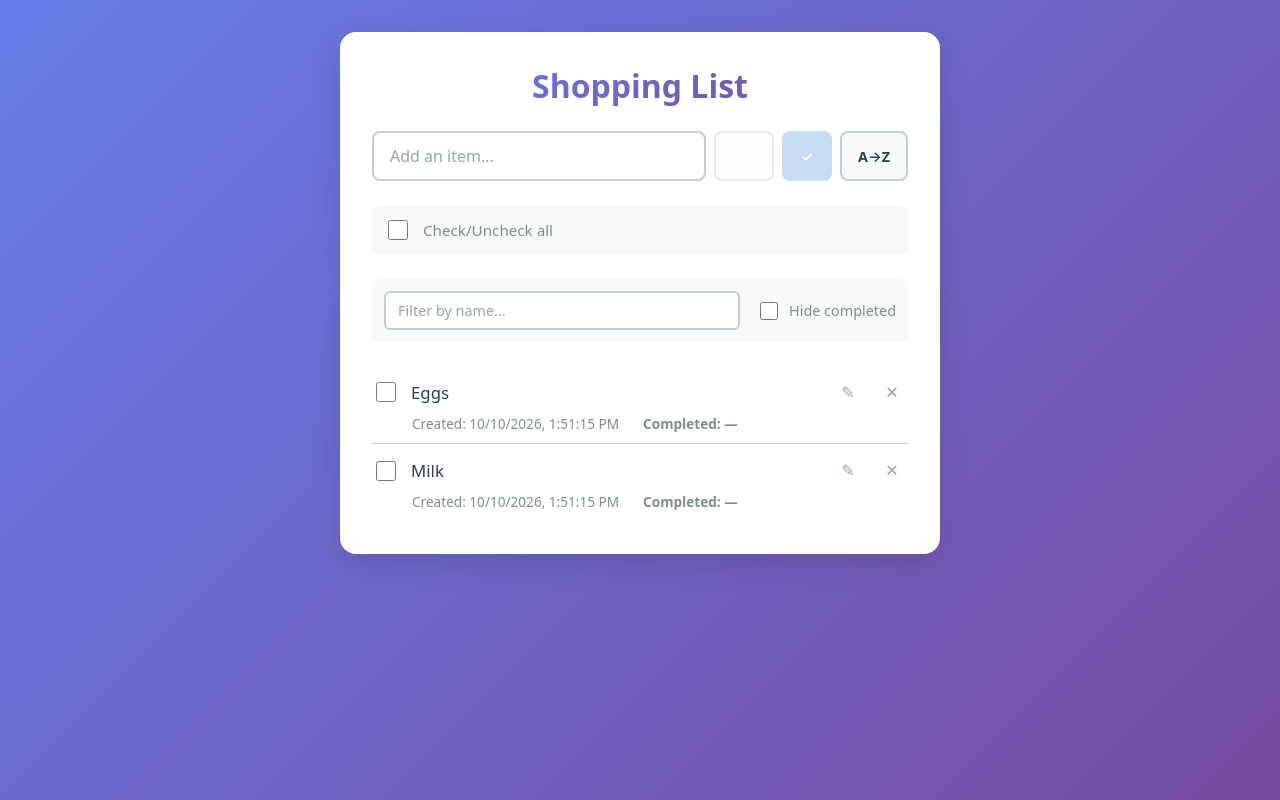
Scenario: App › edits an item when clicking edit, typing, and pressing Enter
This screenshot has width=1280, height=800.
Click the button "✎" in the row of "Milk" at (848, 471), box left=832, top=455, right=864, bottom=487
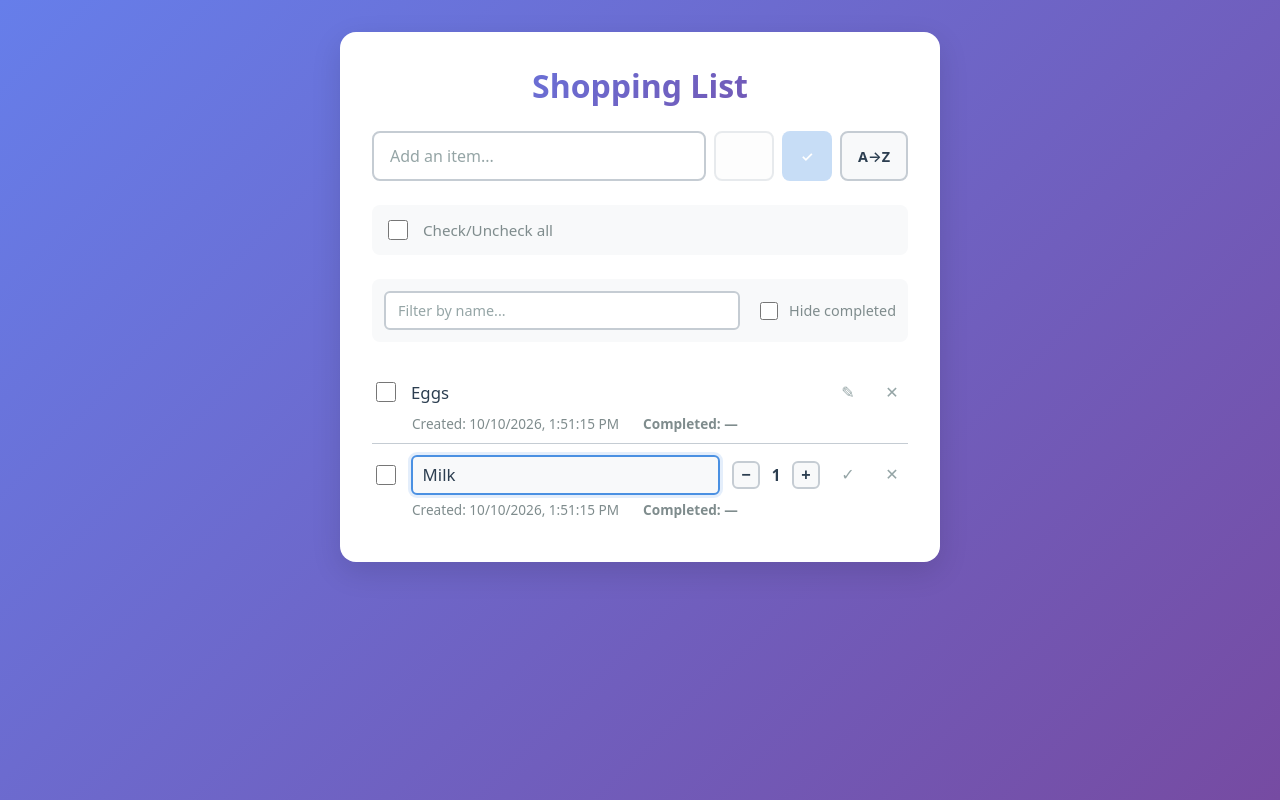
Replace the text in the field showing "Milk" with "Bread" at (566, 475), box left=411, top=455, right=720, bottom=495
Then press Enter
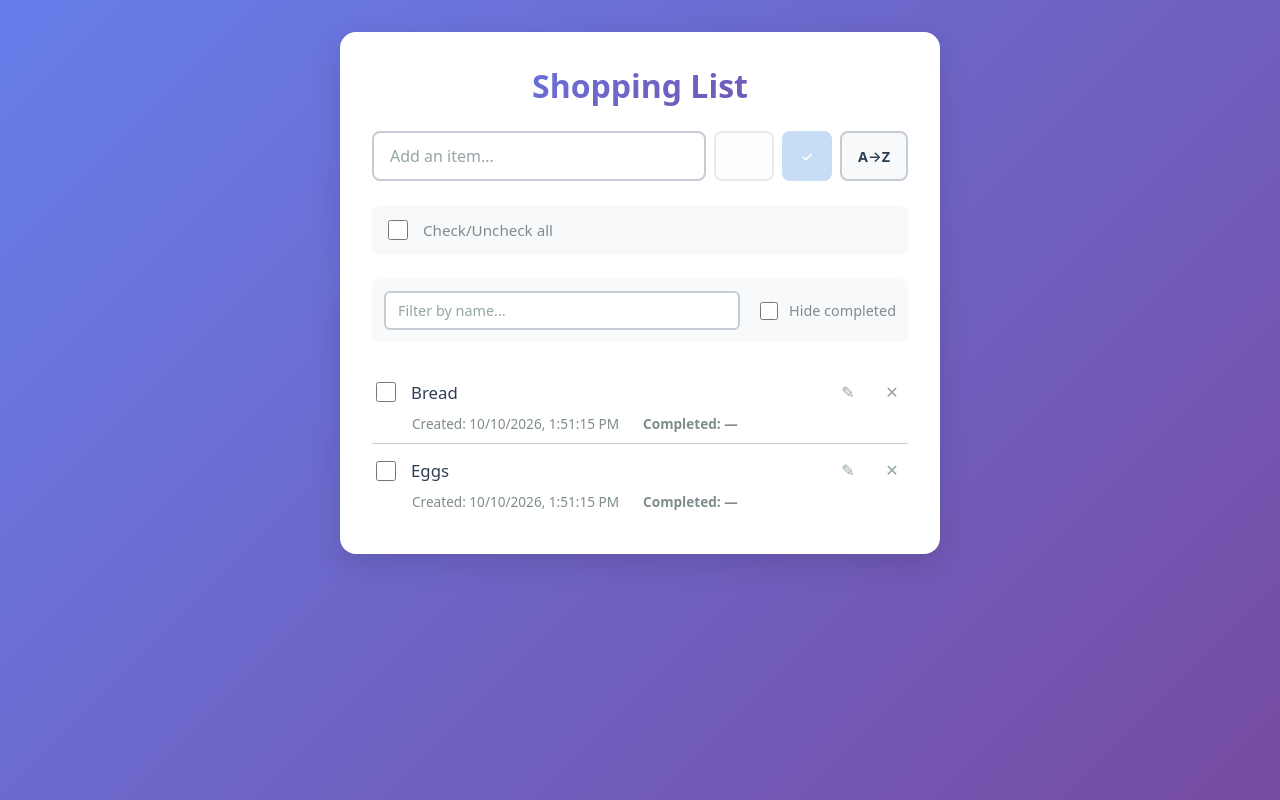
Expected: the text "Milk" is not shown
Now the text "Bread" is shown, box left=411, top=381, right=458, bottom=404
